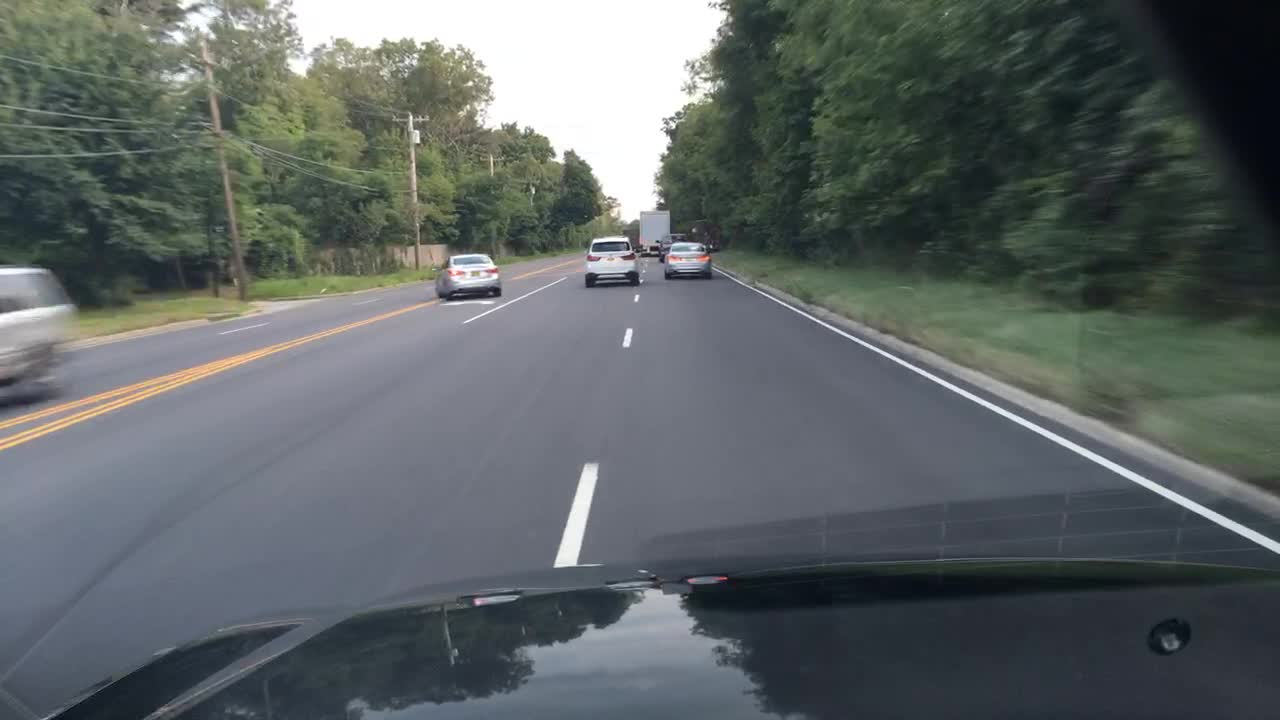car: (0, 260, 83, 406), (431, 250, 504, 300), (582, 233, 641, 289), (661, 238, 714, 282), (654, 231, 693, 263)
truck: (637, 208, 672, 257), (620, 227, 640, 254)
